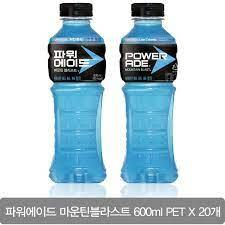powerade_mountainblast: (44, 3, 108, 186), (118, 3, 181, 185)
